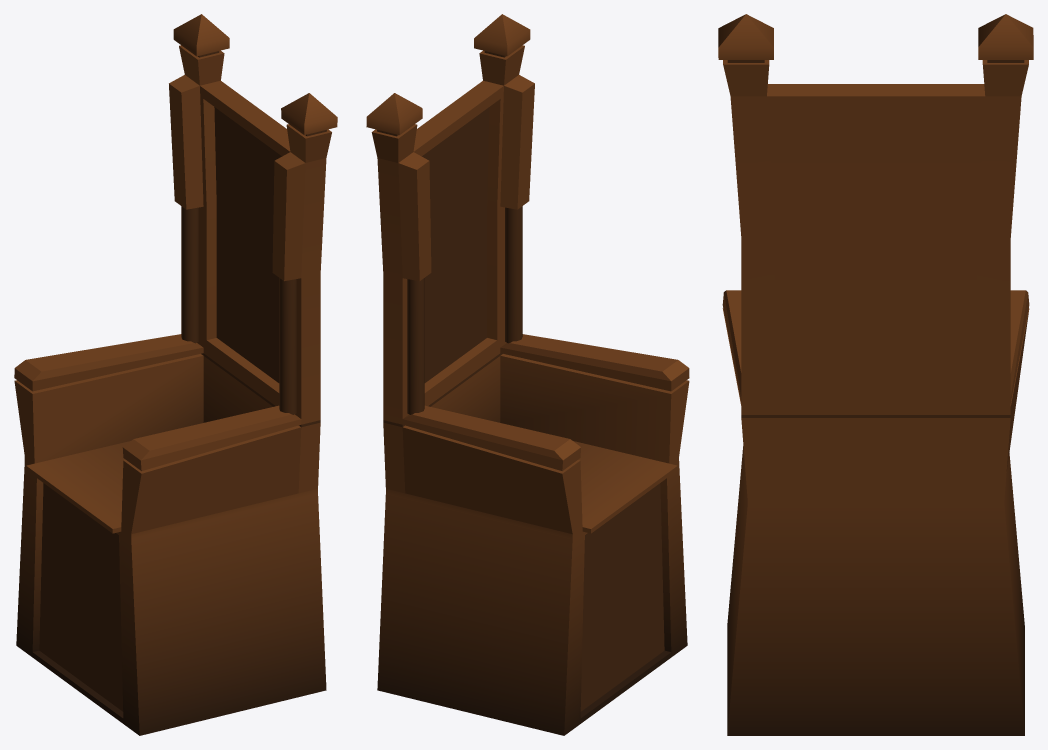
Rendered from Throne.fbx.
The picture shows the model from 3 angles, left to right: view 1: azimuth 30°, elevation 25°; view 2: azimuth 150°, elevation 25°; view 3: azimuth 270°, elevation 25°; orthographic projection. The views are drawn at different scales.
Visible parts, largest first — view 1: pCube3; view 2: pCube3; view 3: pCube3.
Part boxes in pixels (<box>): pCube3: <box>14,14,337,735</box>; pCube3: <box>366,14,689,735</box>; pCube3: <box>718,14,1033,735</box>.
Bounding box in the file's own units: 283 × 792 × 316.
